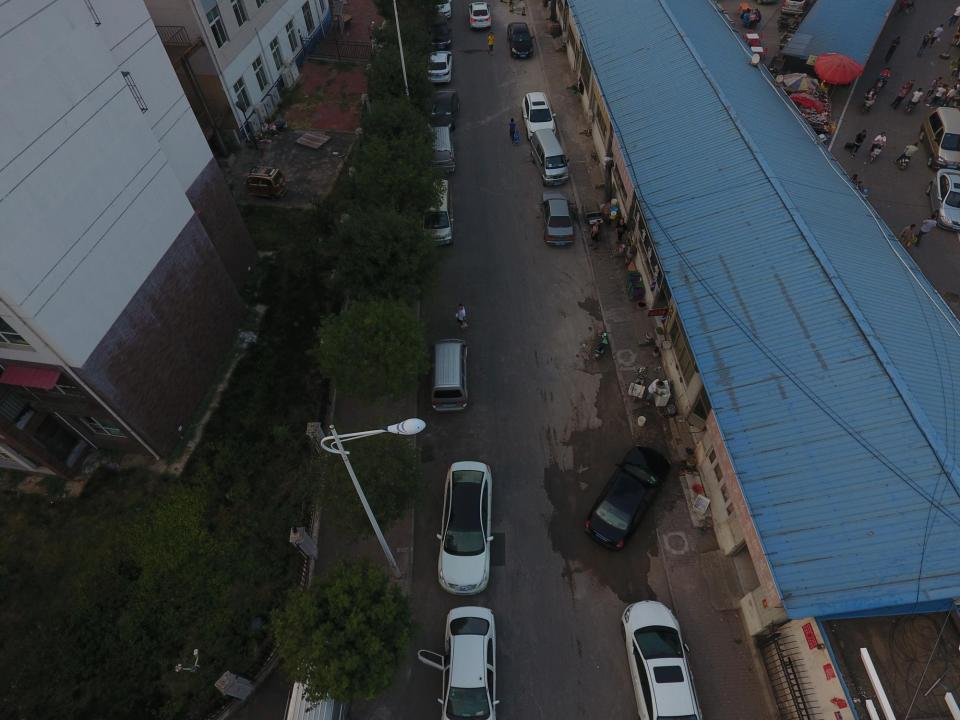car: (623, 598, 701, 720), (586, 446, 670, 550), (438, 460, 495, 596), (442, 605, 497, 720), (540, 190, 575, 247), (930, 169, 960, 231), (522, 93, 558, 141), (426, 88, 459, 131), (420, 46, 453, 87), (422, 10, 452, 52), (507, 21, 534, 58), (426, 0, 453, 24), (469, 1, 491, 30), (778, 0, 814, 15)
van: (279, 636, 363, 720), (412, 176, 454, 248), (430, 336, 469, 413), (921, 107, 960, 169), (530, 129, 571, 186), (422, 126, 458, 169)
